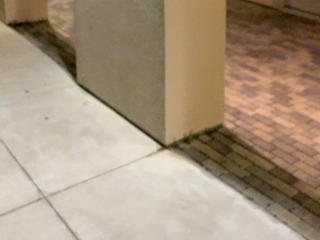Edge: (75, 5, 240, 153)
